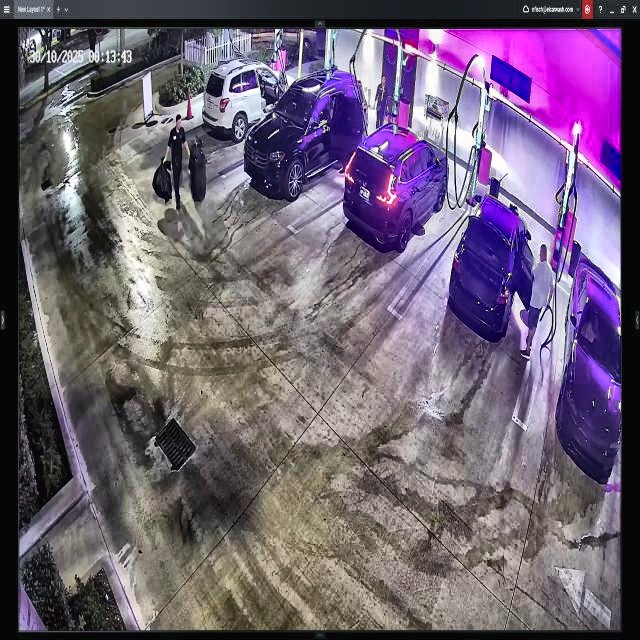Car: (246, 68, 370, 198), (438, 190, 540, 347), (342, 126, 448, 247), (200, 60, 302, 140)
